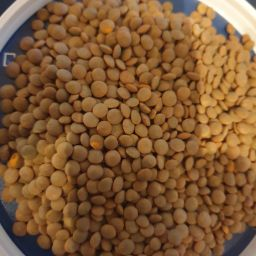Black Lentil(masoor daal): (35, 3, 256, 158), (147, 34, 256, 256), (75, 33, 142, 256), (2, 39, 66, 256)
